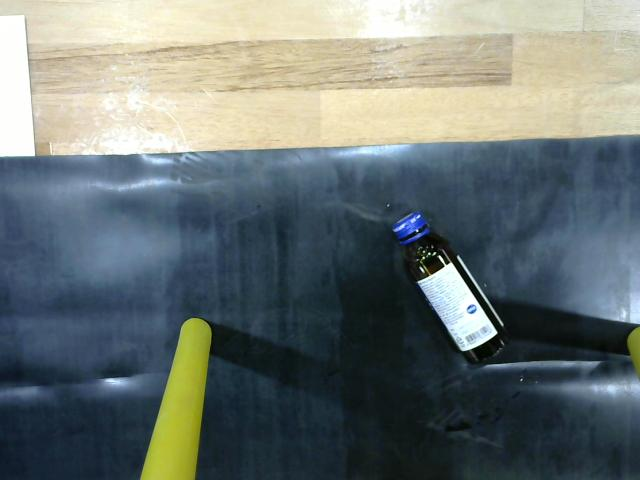glass: (383, 196, 533, 378)
